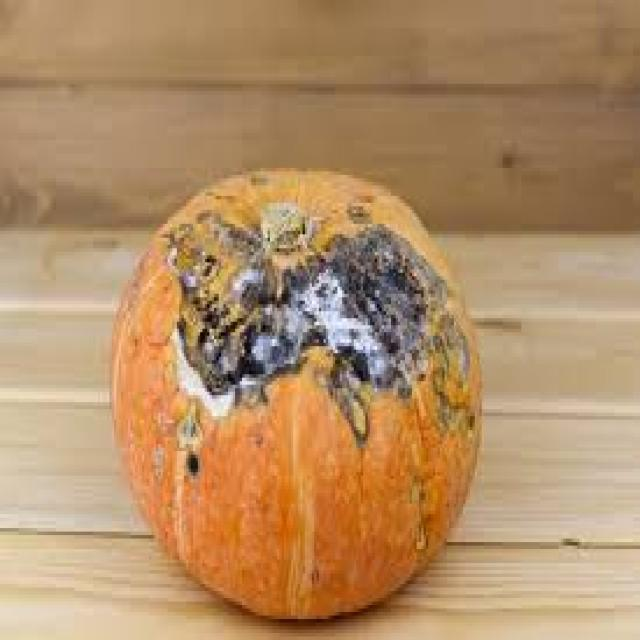organic waste: (110, 161, 480, 619)
